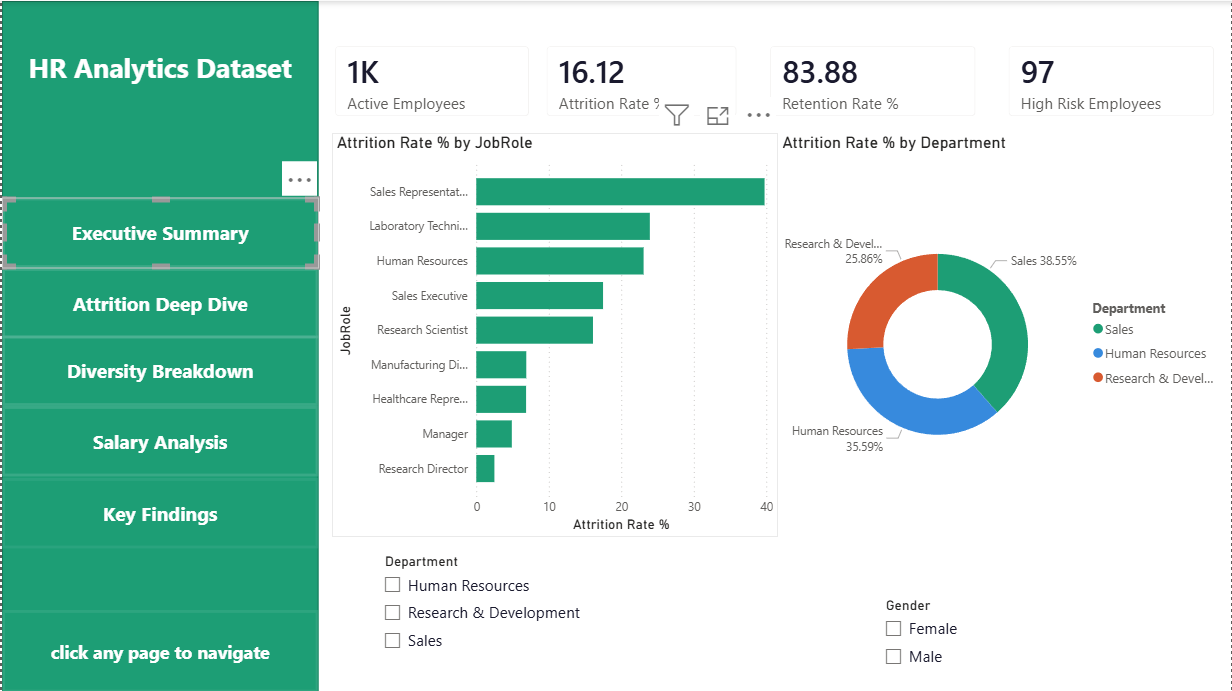

The page's visual inventory and layout, read from the dashboard file:
{"tool":"powerbi","page":{"name":"Executive Summary","canvas":[1280,720],"ordinal":0},"visuals":[{"type":"cardVisual","fields":{"Data":["_Measures (2).Active Employees"]},"box":[329.8,29.7,236,107.8],"z":0},{"type":"cardVisual","fields":{"Data":["_Measures (2).Attrition Rate %"]},"box":[550.2,29.7,232.9,107.8],"z":1000},{"type":"cardVisual","fields":{"Data":["_Measures (2).Retention Rate %"]},"box":[783.1,29.7,248.5,107.8],"z":2000},{"type":"donutChart","fields":{"Category":["Employee_JobInfo.Department"],"Y":["_Measures (2).Attrition Rate %"]},"box":[808.1,137.5,472,420.4],"z":4000},{"type":"clusteredBarChart","fields":{"Category":["Employee_JobInfo.JobRole"],"Y":["_Measures (2).Attrition Rate %"]},"box":[343.9,137.5,464.2,420.4],"z":5000},{"type":"slicer","fields":{"Values":["Employee_JobInfo.Department"]},"box":[386.1,570.5,229.8,150],"z":6000},{"type":"slicer","fields":{"Values":["Employee_Demographics.Gender"]},"box":[650.2,558,143.8,120.4],"z":7000},{"type":"shape","box":[0,0,329.8,720.5],"z":8000},{"type":"actionButton","box":[0,204.8,329.8,73.5],"z":9000},{"type":"actionButton","box":[0,278.2,329.8,73.5],"z":10000},{"type":"actionButton","box":[0,348.5,329.8,73.5],"z":11000},{"type":"actionButton","box":[0,422,329.8,73.5],"z":12000},{"type":"actionButton","box":[0,0,329.8,137.5],"z":13000},{"type":"actionButton","box":[0,634.6,329.8,86],"z":14000},{"type":"actionButton","box":[0,497,329.8,73.5],"z":15000},{"type":"cardVisual","fields":{"Data":["_Measures (2).Est Attrition Cost"]},"box":[794,558,186,162.6],"z":15001},{"type":"cardVisual","fields":{"Data":["_Measures (2).Flight Risk Employees"]},"box":[1031.6,0,236,137.5],"z":15002},{"type":"cardVisual","fields":{"Data":["_Measures (2).Avg Tenure of Leavers"]},"box":[980,558,223.5,162.6],"z":15003}]}

Visuals, with their boxes in screenshot pixels (x1, y1, x2, y2), scaled from the page's 1280x720 canvas onto the 1232x691 screenshot:
cardVisual - _Measures (2).Active Employees: box(317, 29, 545, 132)
cardVisual - _Measures (2).Attrition Rate %: box(530, 29, 754, 132)
cardVisual - _Measures (2).Retention Rate %: box(754, 29, 993, 132)
donutChart - Employee_JobInfo.Department x _Measures (2).Attrition Rate %: box(778, 132, 1231, 535)
clusteredBarChart - Employee_JobInfo.JobRole x _Measures (2).Attrition Rate %: box(331, 132, 778, 535)
slicer - Employee_JobInfo.Department: box(372, 548, 593, 690)
slicer - Employee_Demographics.Gender: box(626, 536, 764, 651)
shape: box(0, 0, 317, 690)
actionButton: box(0, 197, 317, 267)
actionButton: box(0, 267, 317, 338)
actionButton: box(0, 334, 317, 405)
actionButton: box(0, 405, 317, 476)
actionButton: box(0, 0, 317, 132)
actionButton: box(0, 609, 317, 690)
actionButton: box(0, 477, 317, 548)
cardVisual - _Measures (2).Est Attrition Cost: box(764, 536, 943, 690)
cardVisual - _Measures (2).Flight Risk Employees: box(993, 0, 1220, 132)
cardVisual - _Measures (2).Avg Tenure of Leavers: box(943, 536, 1158, 690)
